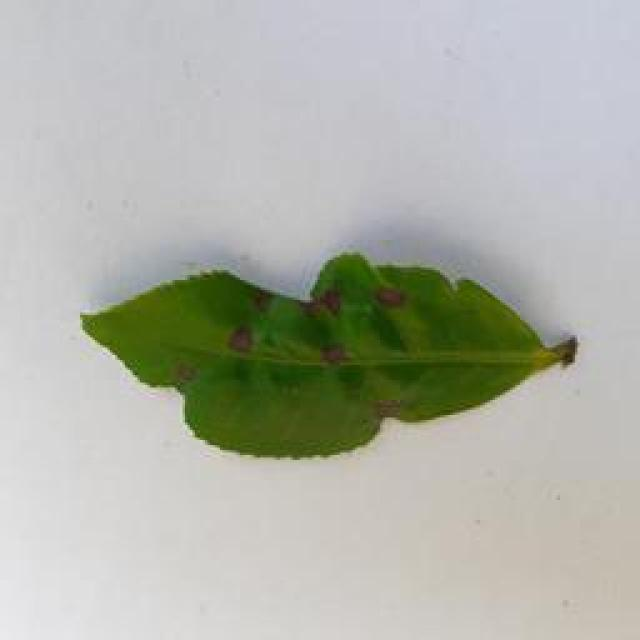Helopeltis: (80, 250, 604, 467)
